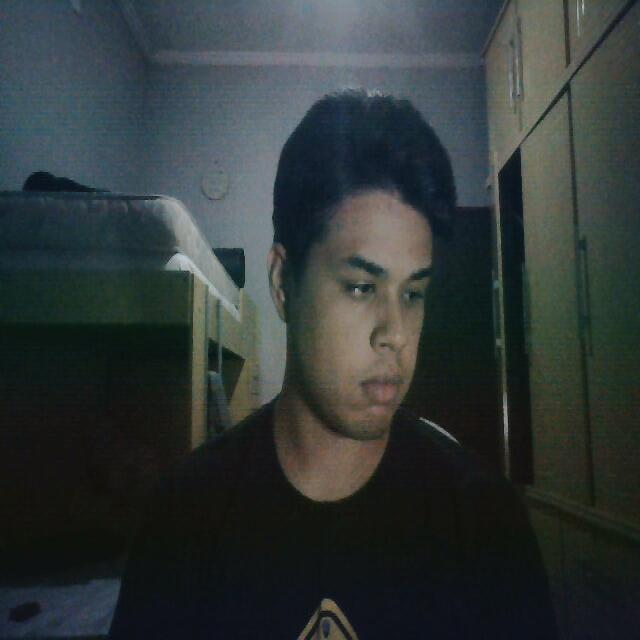acordado: (265, 86, 453, 452)
